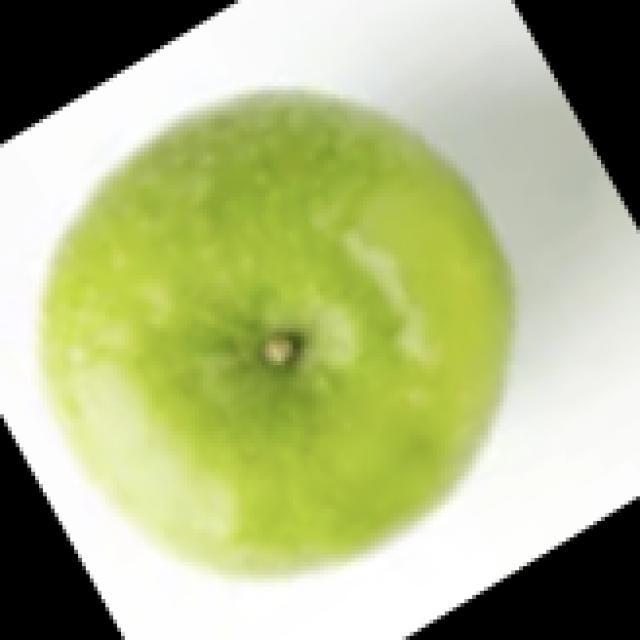Fresh Apple: (72, 104, 503, 564)
